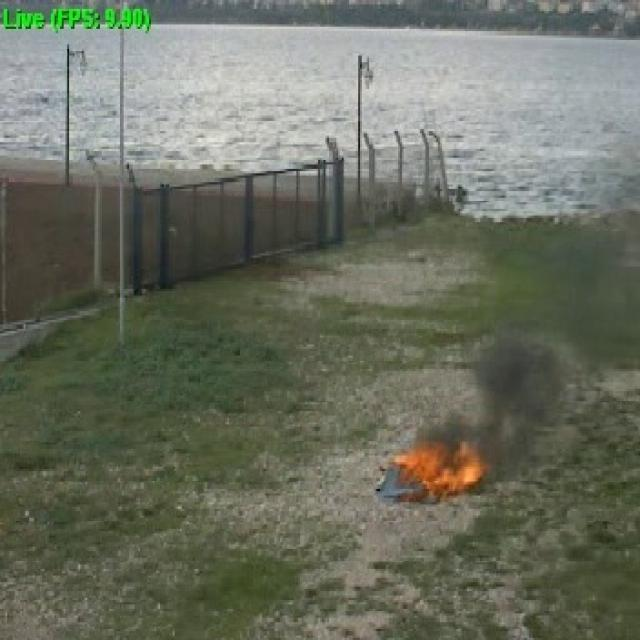fire: (393, 442, 482, 498)
